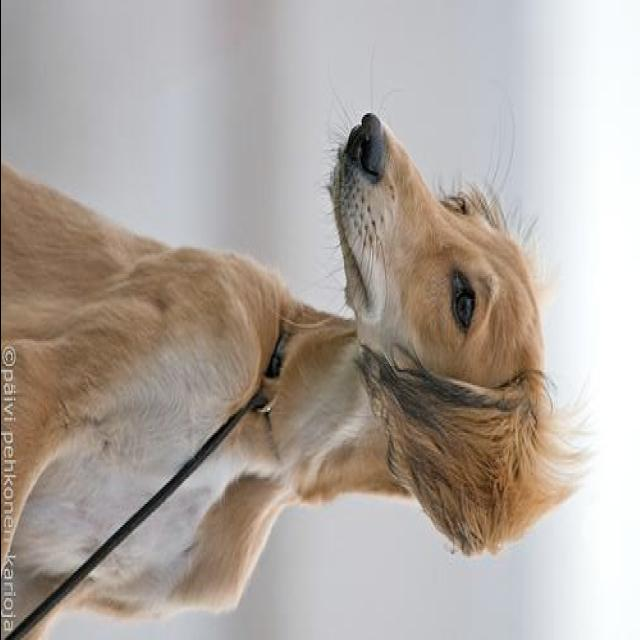saluki: (2, 109, 588, 636)
